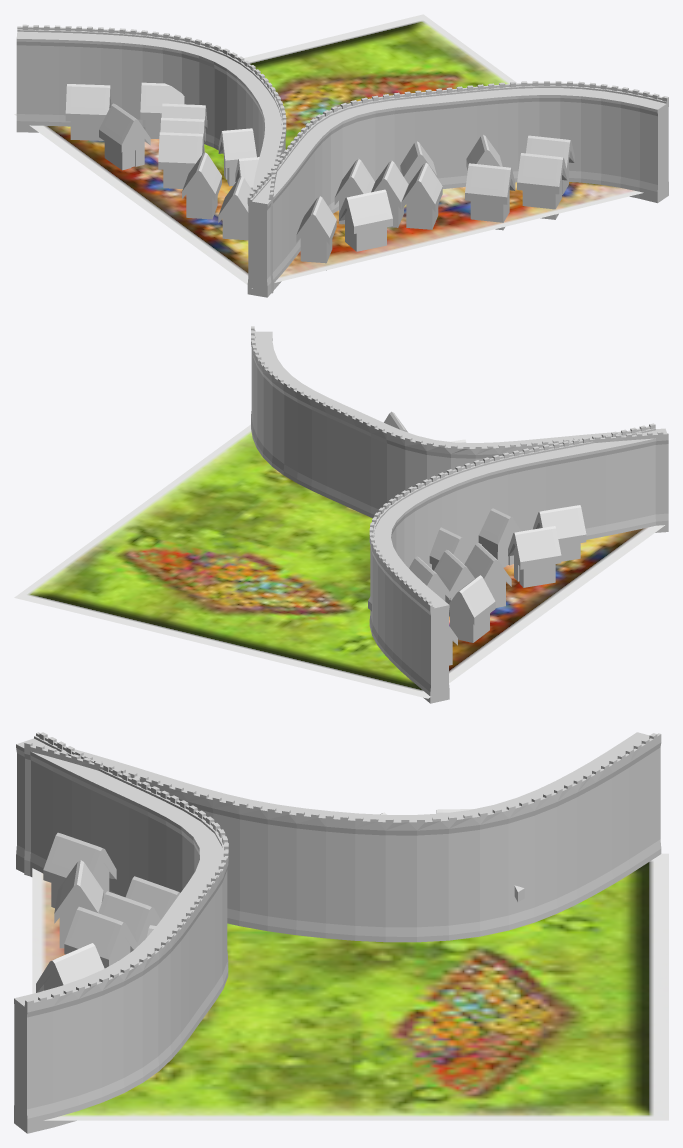
File: tile11.fbx
3 renders of one model, top to bottom at view 1: azimuth 30°, elevation 25°; view 2: azimuth 150°, elevation 25°; view 3: azimuth 270°, elevation 25°, orthographic. The views are drawn at different scales.
Parts seen in each view (by area): view 1: tile11; view 2: tile11; view 3: tile11.
Boxes of the visible parts, box(x1,y1,x2,y2) form: tile11: box(14, 14, 668, 297); tile11: box(14, 326, 668, 703); tile11: box(14, 732, 668, 1133).
Bounding box in the file's own units: 102 × 23.52 × 102.
